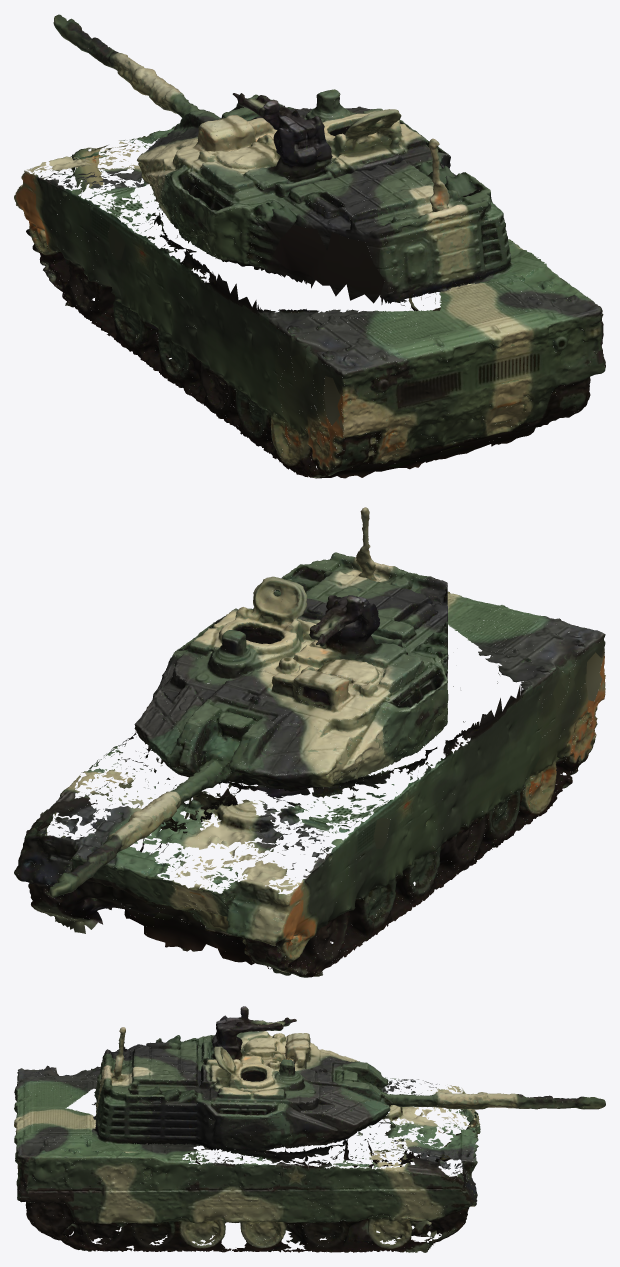
File: ztq15.glb
3 renders of one model, top to bottom at view 1: azimuth 30°, elevation 25°; view 2: azimuth 150°, elevation 25°; view 3: azimuth 270°, elevation 25°, orthographic. The views are drawn at different scales.
Parts seen in each view (by area): view 1: V_ztq15; view 2: V_ztq15; view 3: V_ztq15.
Part boxes in pixels (x1=…): V_ztq15: x1=14, y1=14, x2=605, y2=478; V_ztq15: x1=14, y1=507, x2=605, y2=977; V_ztq15: x1=14, y1=1006, x2=605, y2=1252.
Size of the model in its own units: 8.95 by 8.77 by 24.26.
4 materials, 4 textured.
